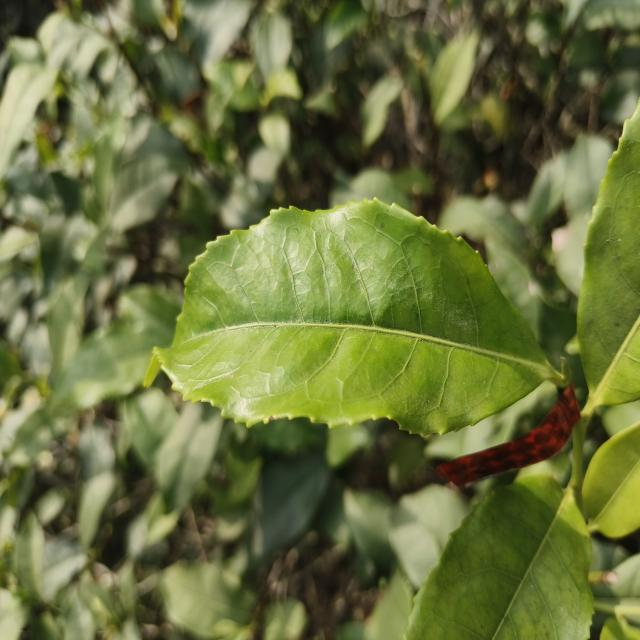Leaf: (153, 200, 559, 434), (405, 475, 593, 640), (577, 103, 640, 404), (54, 321, 157, 408), (388, 485, 470, 588), (252, 450, 330, 558), (156, 402, 223, 510), (162, 561, 253, 639), (582, 422, 640, 538), (0, 63, 57, 178), (110, 154, 178, 231), (486, 239, 539, 337), (439, 196, 526, 251), (429, 31, 479, 125), (120, 387, 178, 466), (48, 274, 88, 381), (343, 488, 393, 571), (564, 135, 613, 218), (119, 284, 180, 349), (78, 471, 116, 548), (251, 12, 292, 83), (42, 538, 86, 600), (15, 513, 44, 600), (78, 424, 115, 479)
